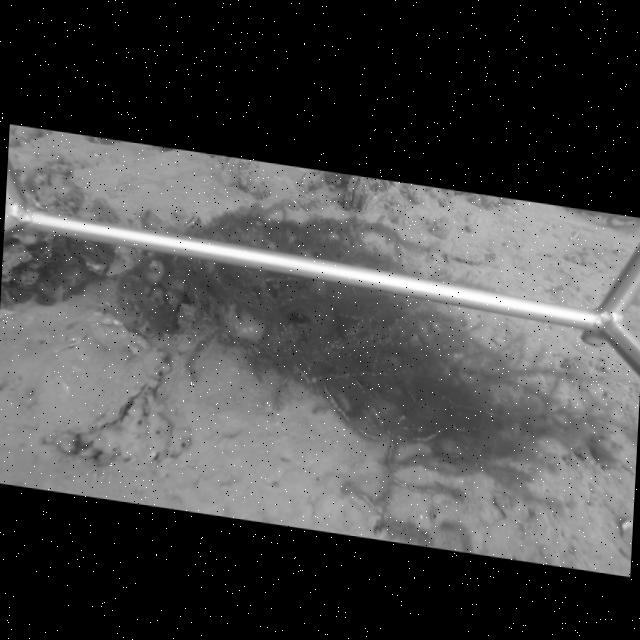Oyster-Closed: (25, 307, 171, 455), (342, 177, 369, 208)
